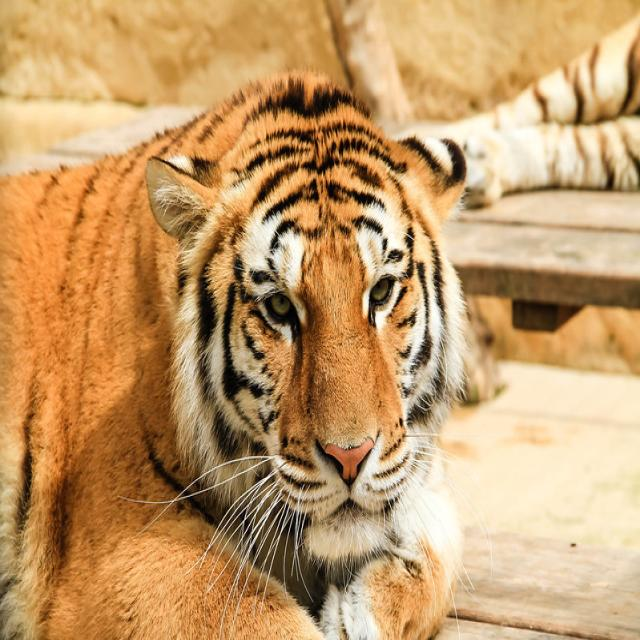Tiger: (0, 67, 473, 638)
